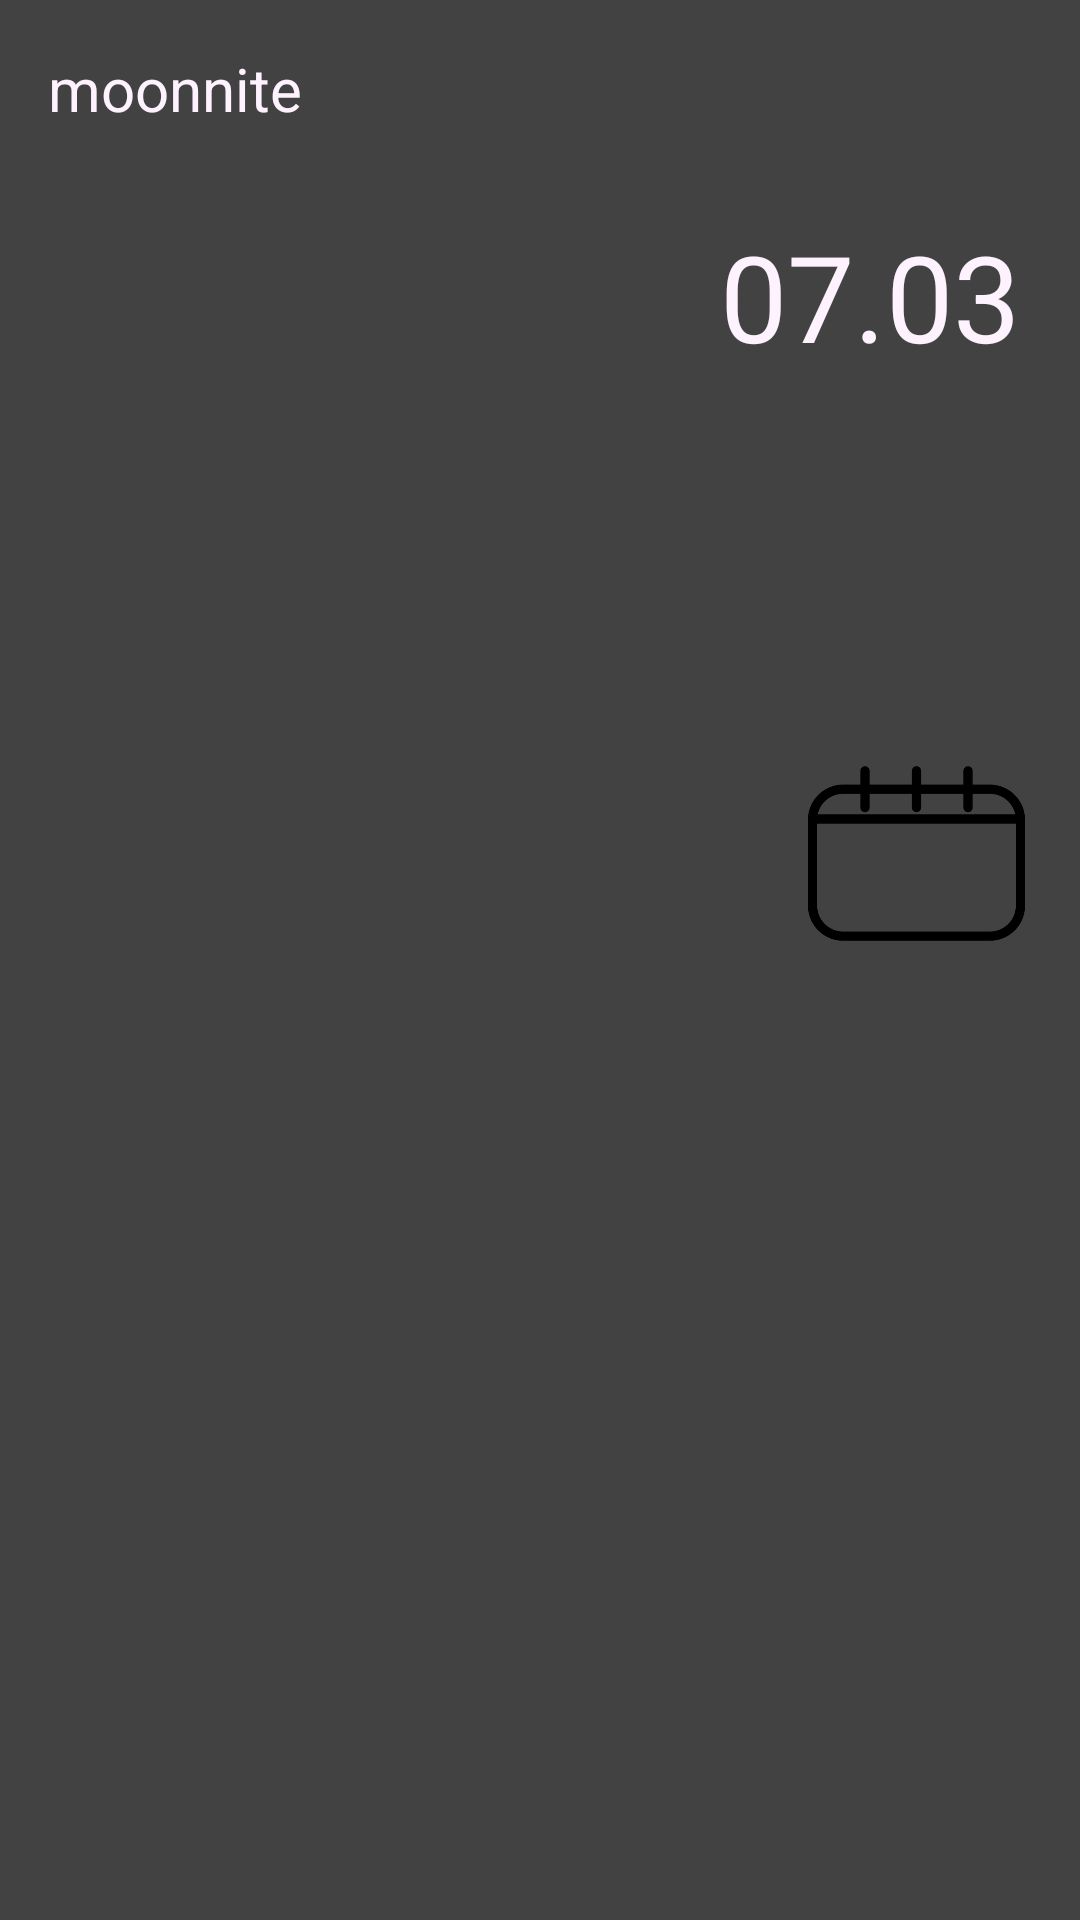

Icon bounding boxes for this 1080 x 1920 phone screenshot, format {"x1": x1, "y1": y1, "x2": x2, "y2": y2}:
calendar: {"x1": 808, "y1": 766, "x2": 1025, "y2": 941}
